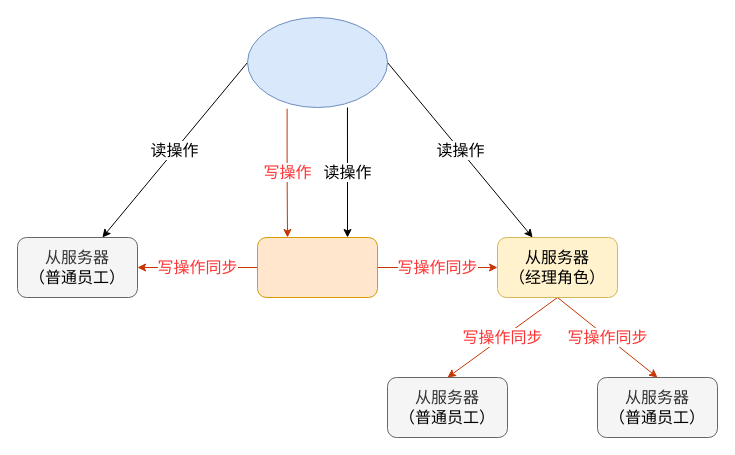
The diagram is 735 pixels wide and 455 high, and some of its shapes have lost their labels. Here are the shapes that lost their labels. From the top down, the centre of each, then its label:
At [317,62]: "客户端".
At [317,267]: "主服务器 （老板角色）".
